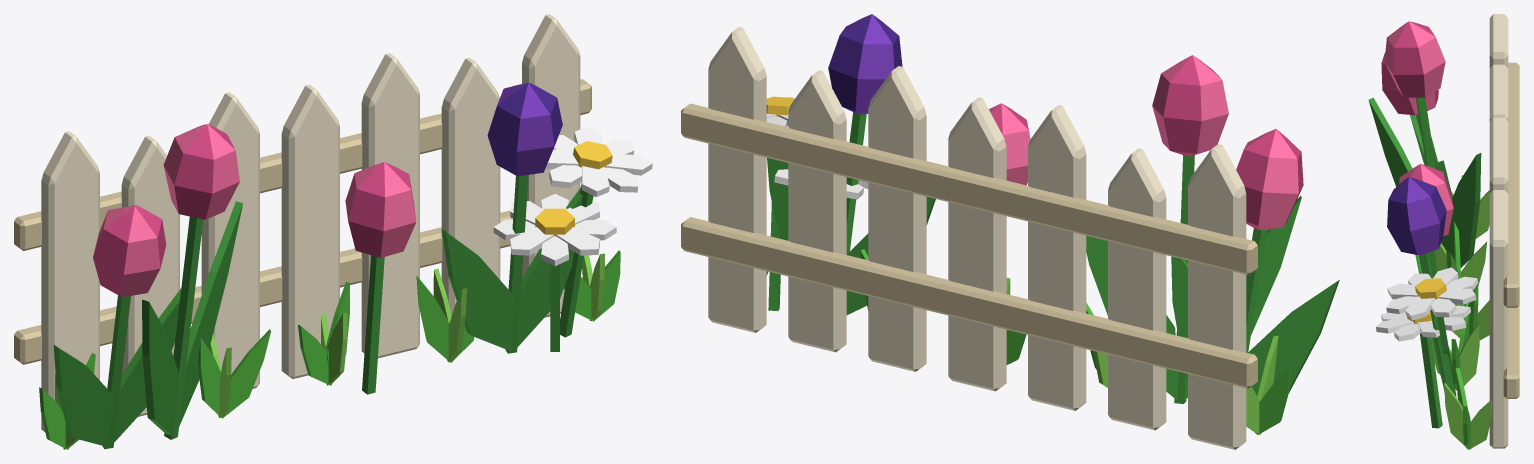
The model's file is fence-1x1.glb.
3 views of the same model, side by side, from view 1: azimuth 30°, elevation 25°; view 2: azimuth 150°, elevation 25°; view 3: azimuth 270°, elevation 25° (orthographic). The views are drawn at different scales.
Parts seen in each view (by area): view 1: fence-1x1; view 2: fence-1x1; view 3: fence-1x1.
Boxes of the visible parts, x1,y1,x2,y2 form: fence-1x1: (14, 14, 652, 449); fence-1x1: (681, 14, 1339, 449); fence-1x1: (1368, 14, 1519, 449).
Size of the model in its own units: 0.9 by 0.4718 by 0.2454.
Materials: 1 (1 with a texture image).
